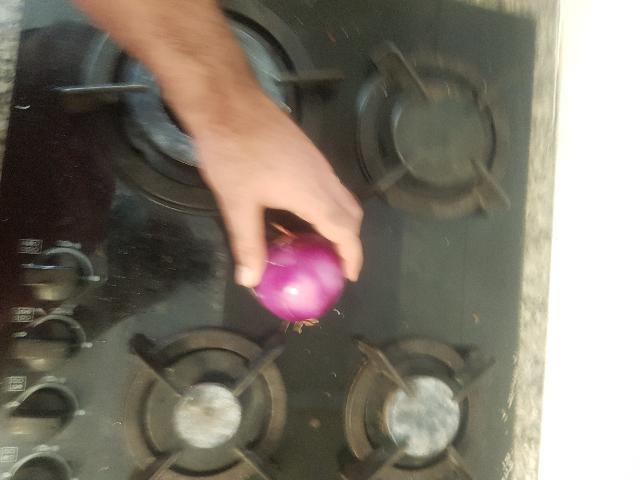onion: (386, 295, 475, 386)
